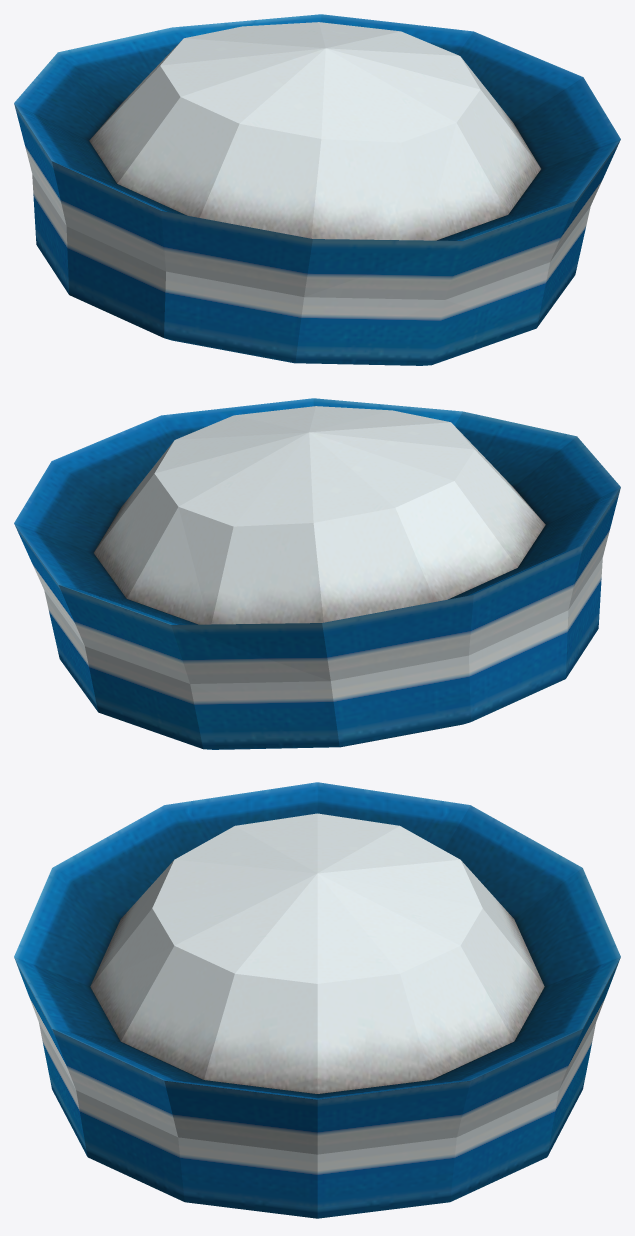
File: Mole_summerHat.obj
3 renders of one model, top to bottom at view 1: azimuth 30°, elevation 25°; view 2: azimuth 150°, elevation 25°; view 3: azimuth 270°, elevation 25°, orthographic. The views are drawn at different scales.
Parts seen in each view (by area): view 1: Mole_summerHat_tri; view 2: Mole_summerHat_tri; view 3: Mole_summerHat_tri.
Part boxes in pixels (x1,y1,x2,y2): Mole_summerHat_tri: [14, 14, 620, 365]; Mole_summerHat_tri: [14, 398, 620, 749]; Mole_summerHat_tri: [14, 782, 620, 1218].
Size of the model in its own units: 0.2806 by 0.1175 by 0.2667.
1 material, 1 textured.
